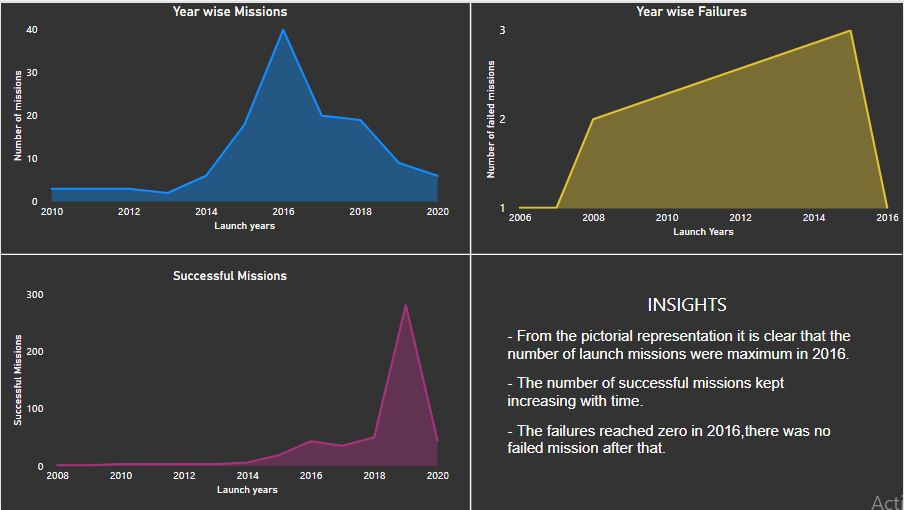

What the dashboard file says about the page in this screenshot:
{"tool":"powerbi","page":{"name":"Graphs","canvas":[1280,720],"ordinal":1},"visuals":[{"type":"areaChart","title":"Year wise Missions","fields":{"Category":["launches?limit=100.launch_year"],"Y":["CountNonNull(launches?limit=100.mission_id)"]},"box":[10.1,0,630.5,329],"z":0},{"type":"areaChart","title":"Successful Missions","fields":{"Category":["launches?limit=100.launch_year"],"Y":["CountNonNull(launches?limit=100.launch_success)"]},"box":[9.9,376.3,630.5,328],"z":1000},{"type":"shape","box":[0,338,1279.5,38.3],"z":2000},{"type":"shape","box":[651.8,0,29.8,720],"z":3000},{"type":"areaChart","title":"Year wise Failures","fields":{"Category":["launches?limit=100.launch_year"],"Y":["CountNonNull(launches?limit=100.launch_success)"]},"box":[682,0,598,338],"z":4000},{"type":"textbox","box":[715,403,519.8,285.4],"z":5000}]}

Visuals, with their boxes in screenshot pixels (x1, y1, x2, y2), scaled from the page's 1280x720 canvas onto the 904x510 screenshot:
"Year wise Missions" areaChart: rect(7, 0, 452, 233)
"Successful Missions" areaChart: rect(7, 267, 452, 499)
shape: rect(0, 239, 903, 267)
shape: rect(460, 0, 481, 509)
"Year wise Failures" areaChart: rect(482, 0, 903, 239)
textbox: rect(505, 285, 872, 488)
